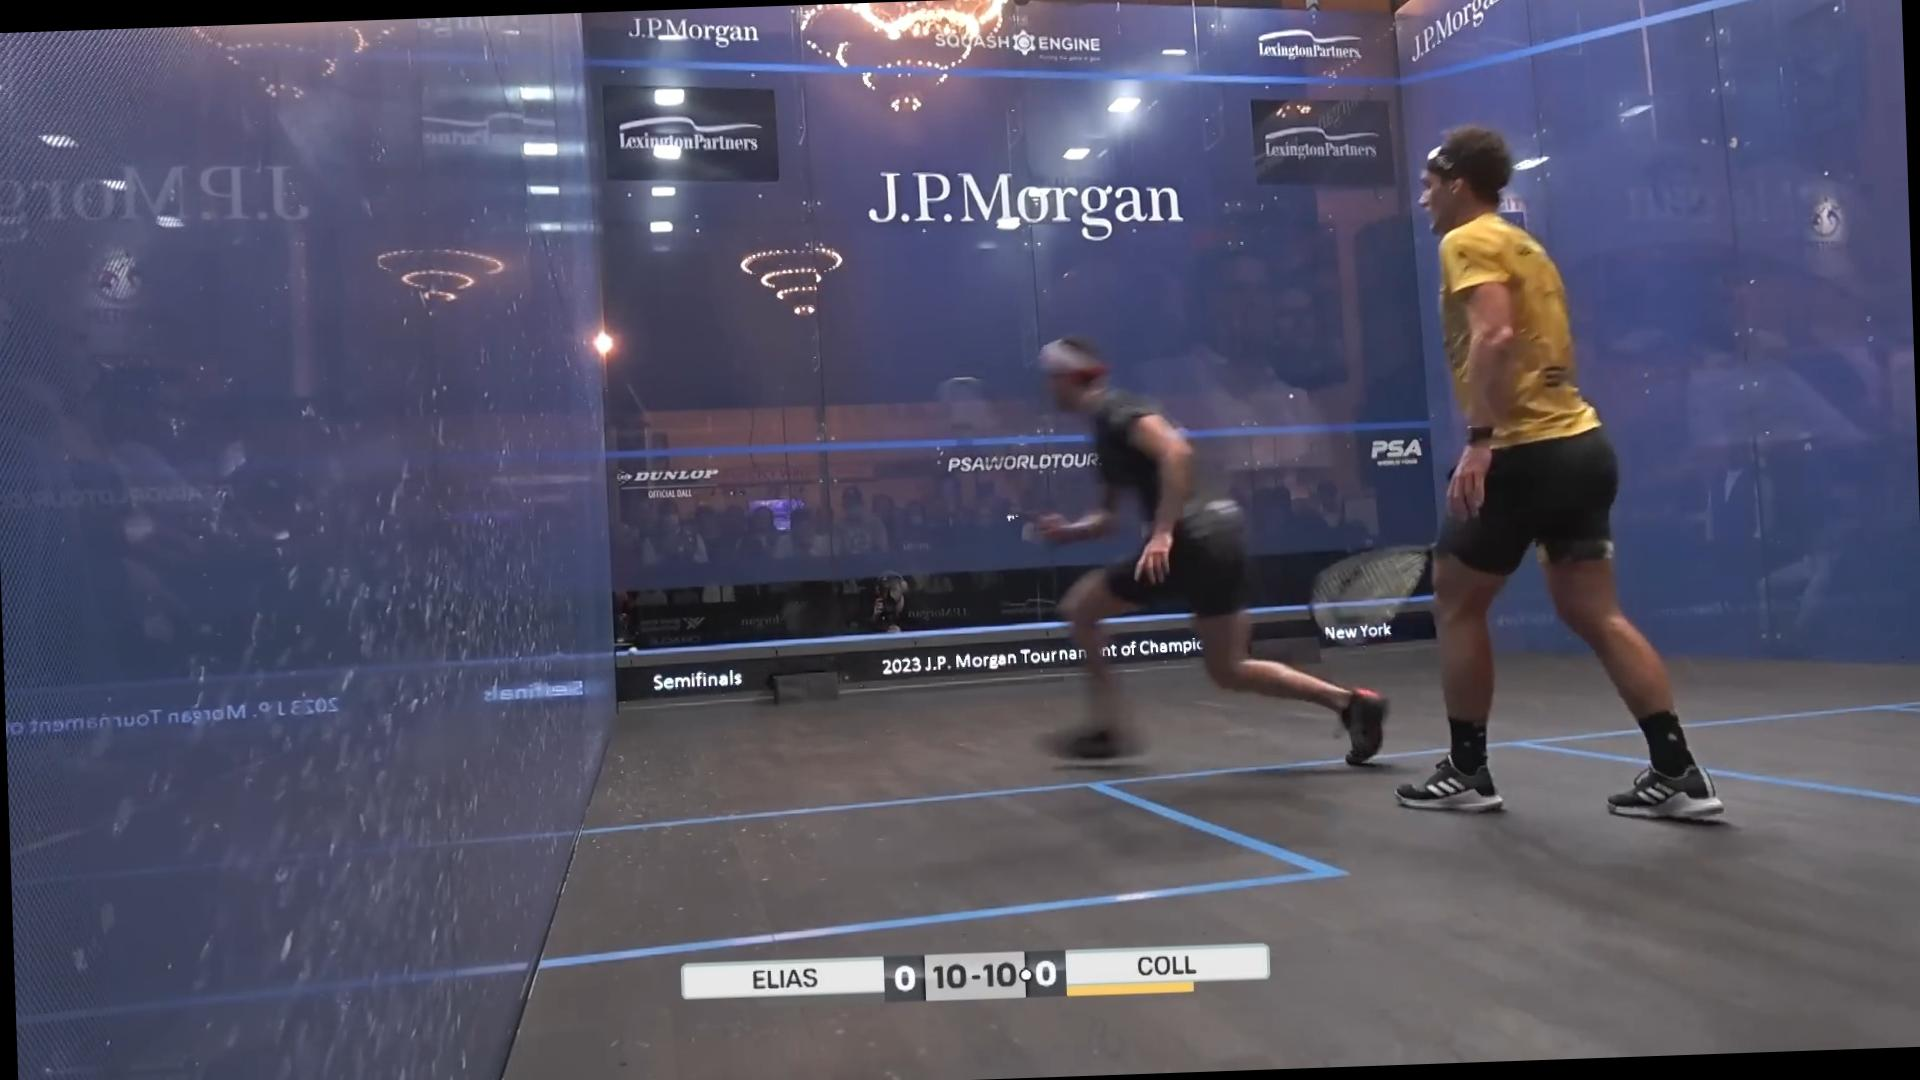Racket: (920, 364, 1043, 517), (1292, 538, 1443, 649)
